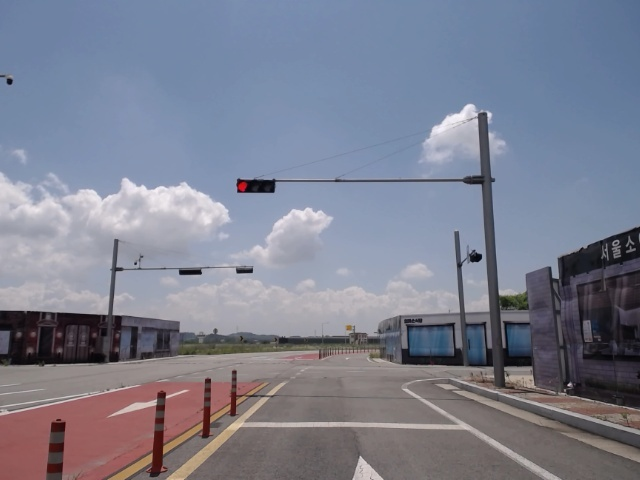red_3: (235, 178, 277, 193)
